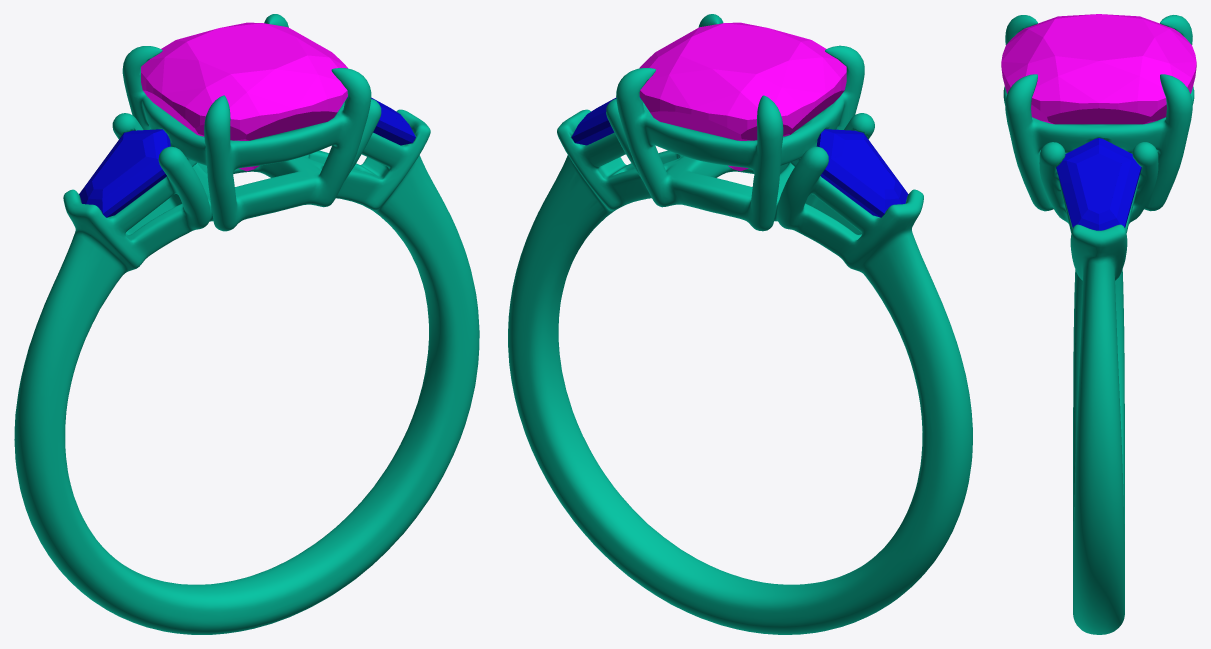
The model's file is BE1D147_CU_200ct_RENDER.glb.
3 renders of one model, left to right at view 1: azimuth 30°, elevation 25°; view 2: azimuth 150°, elevation 25°; view 3: azimuth 270°, elevation 25°, orthographic.
Visible parts, largest first — view 1: Metal 01, CS_Diamond_Cushion, Diamond_Marquise_side.001, Diamond_Marquise_side; view 2: Metal 01, CS_Diamond_Cushion, Diamond_Marquise_side.001, Diamond_Marquise_side; view 3: Metal 01, CS_Diamond_Cushion, Diamond_Marquise_side.
Part boxes in pixels (x1,y1,x2,y2): Metal 01: (14, 14, 479, 634); CS_Diamond_Cushion: (141, 22, 347, 171); Diamond_Marquise_side.001: (79, 129, 170, 217); Diamond_Marquise_side: (346, 97, 415, 145); Metal 01: (508, 14, 972, 634); CS_Diamond_Cushion: (639, 22, 846, 171); Diamond_Marquise_side.001: (816, 129, 908, 217); Diamond_Marquise_side: (571, 97, 640, 145); Metal 01: (1003, 15, 1194, 634); CS_Diamond_Cushion: (1001, 14, 1196, 124); Diamond_Marquise_side: (1056, 138, 1141, 230).
Bounding box in the file's own units: 20.14 × 24.31 × 7.5.
